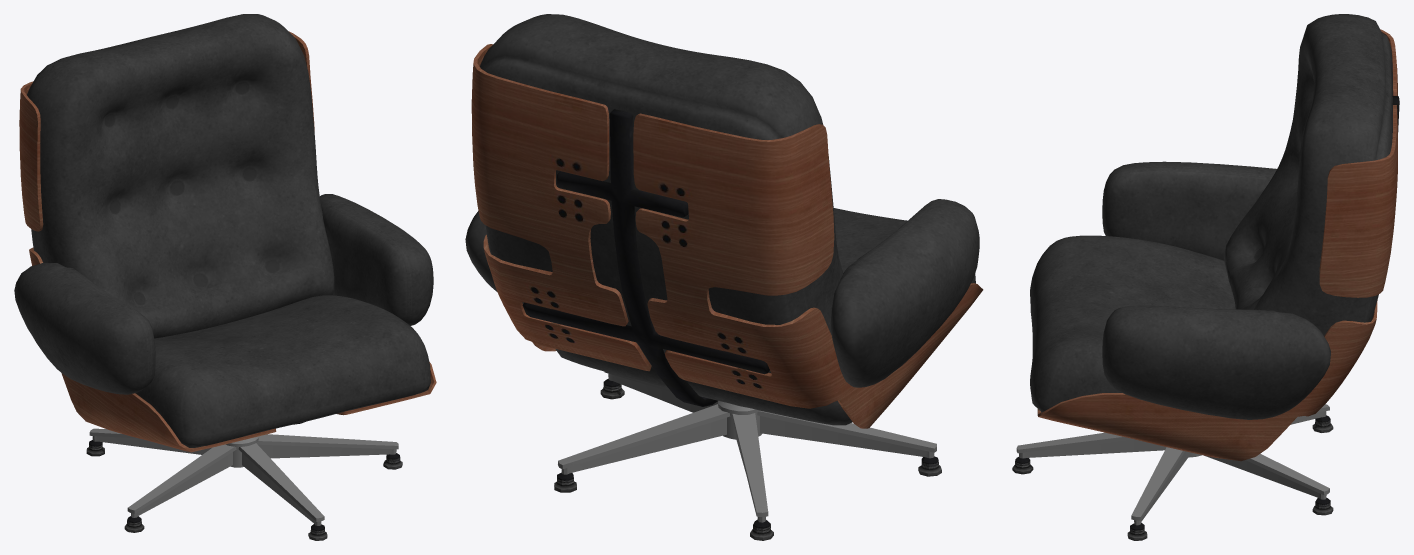
File: Furnario_Chair_grey.gltf
3 views of the same model, side by side, from view 1: azimuth 30°, elevation 25°; view 2: azimuth 150°, elevation 25°; view 3: azimuth 270°, elevation 25° (orthographic). The views are drawn at different scales.
Parts seen in each view (by area): view 1: Chair, Chair.008; view 2: Chair, Chair.008; view 3: Chair, Chair.008.
Boxes of the visible parts, x1,y1,x2,y2 form: Chair: (14, 14, 433, 540); Chair.008: (19, 31, 436, 452); Chair: (465, 14, 979, 540); Chair.008: (471, 44, 983, 428); Chair: (1012, 14, 1399, 540); Chair.008: (1037, 29, 1397, 461).
Bounding box in the file's own units: 0.9428 × 1 × 0.8593.
1 material, 1 textured.
